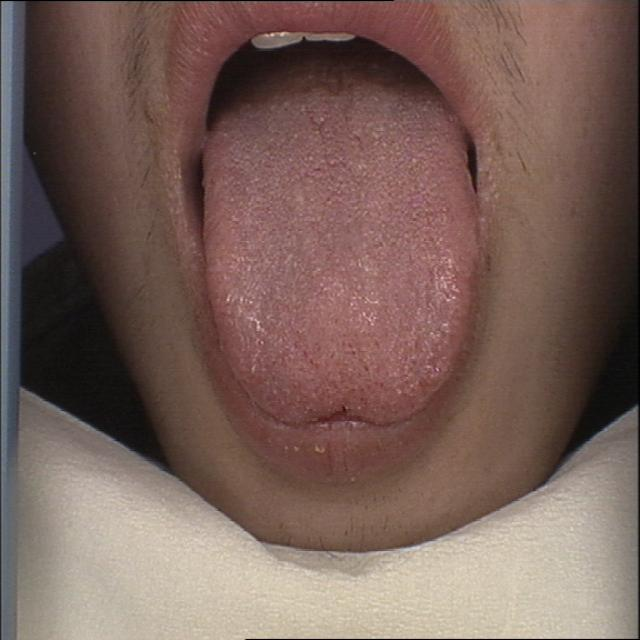tongue: (196, 68, 486, 429)
